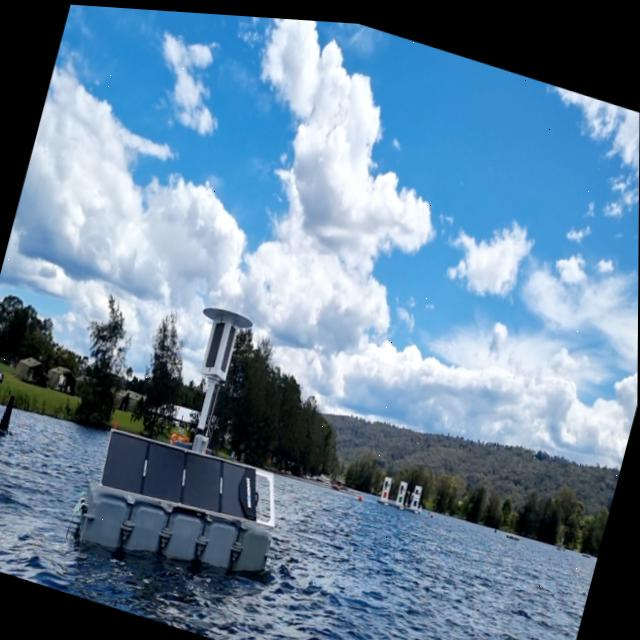led: (202, 314, 229, 369), (216, 316, 238, 374)
